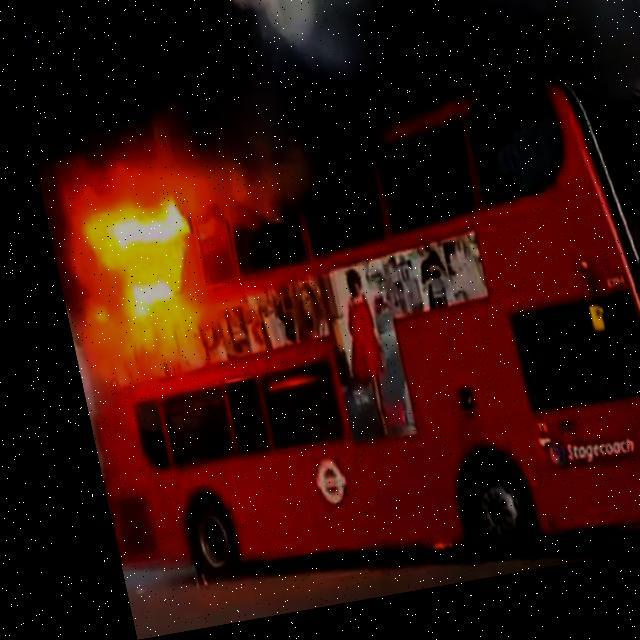Fire: (26, 100, 282, 388)
